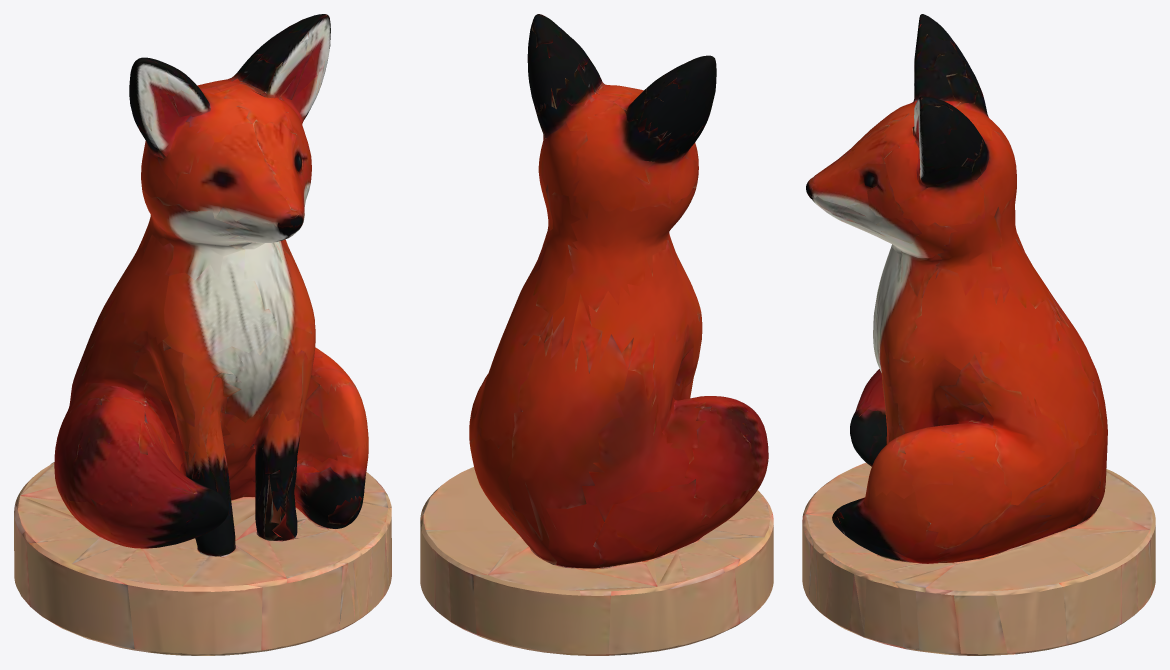
The model's file is renard.glb.
The picture shows the model from 3 angles, left to right: view 1: azimuth 30°, elevation 25°; view 2: azimuth 150°, elevation 25°; view 3: azimuth 270°, elevation 25°; orthographic projection. The views are drawn at different scales.
Parts seen in each view (by area): view 1: mesh_node; view 2: mesh_node; view 3: mesh_node.
Boxes of the visible parts, x1,y1,x2,y2 form: mesh_node: [14, 14, 391, 655]; mesh_node: [420, 14, 773, 655]; mesh_node: [802, 14, 1155, 655].
Size of the model in its own units: 1.16 by 1.9 by 1.16.
Materials: 1 (1 with a texture image).
